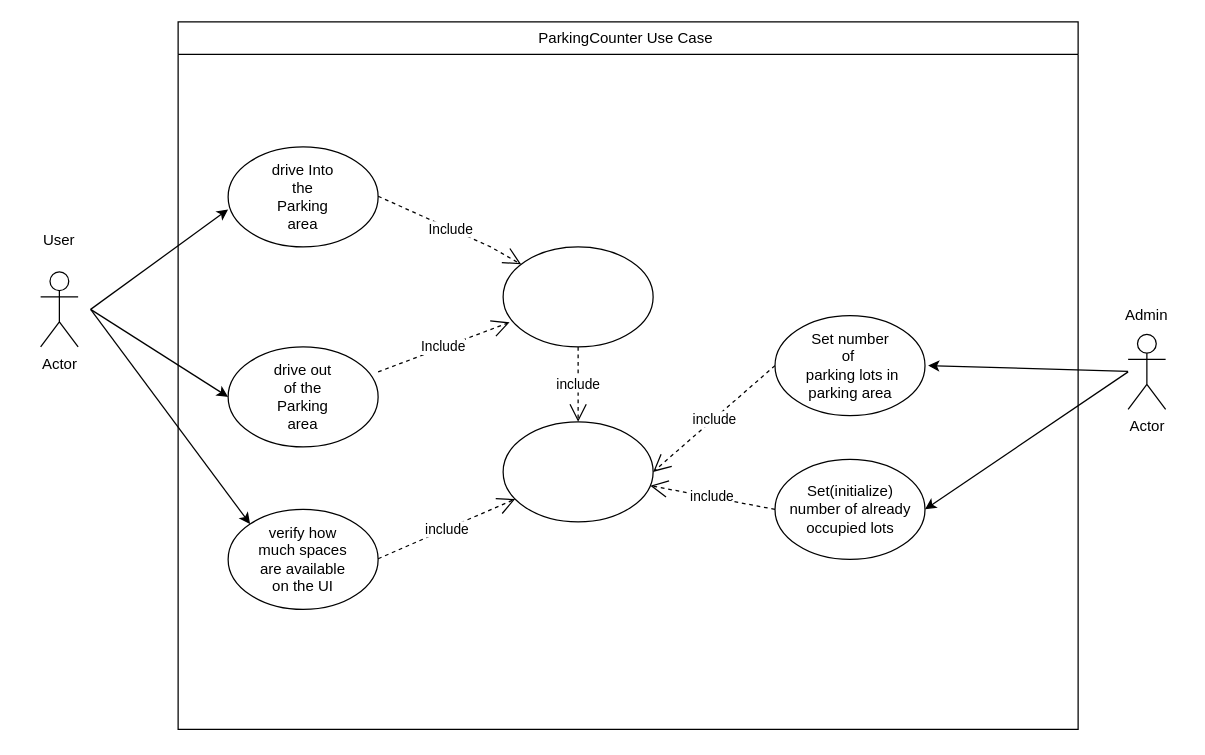
Image size: 1205x755. Some labels were removed from this diagram. The centre of each missing label's shape, as x and y in pixels:
Car counting: the point at 577,471
Car detection system: the point at 577,296
